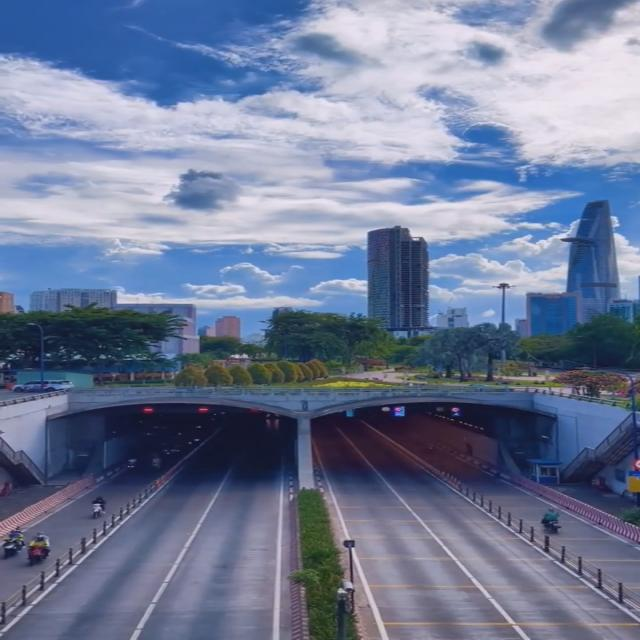motorbike: (0, 533, 28, 560), (24, 534, 48, 565), (540, 507, 562, 531), (89, 497, 108, 521)
